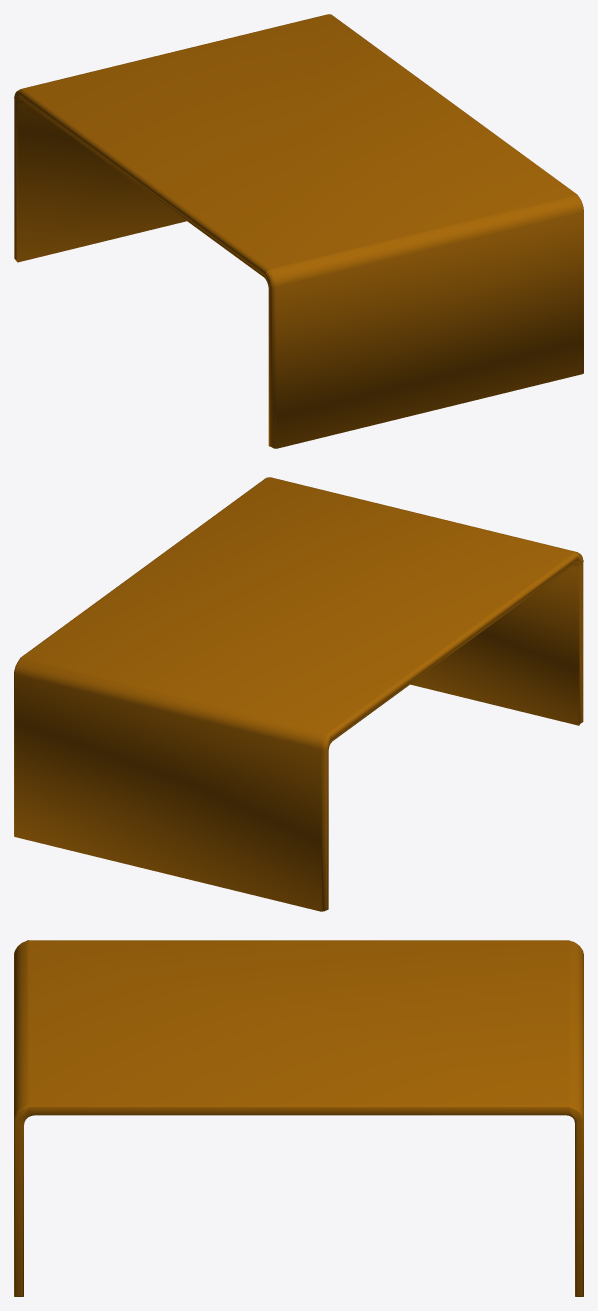
Rendered from ND-0727__Burano2.glb.
The picture shows the model from 3 angles, top to bottom: view 1: azimuth 30°, elevation 25°; view 2: azimuth 150°, elevation 25°; view 3: azimuth 270°, elevation 25°; orthographic projection. The views are drawn at different scales.
Visible parts, largest first — view 1: Cube; view 2: Cube; view 3: Cube.
Part boxes in pixels (<box>): Cube: <box>14,14,583,448</box>; Cube: <box>14,477,583,911</box>; Cube: <box>14,940,583,1296</box>.
Size of the model in its own units: 4.16 by 2.22 by 5.98.
